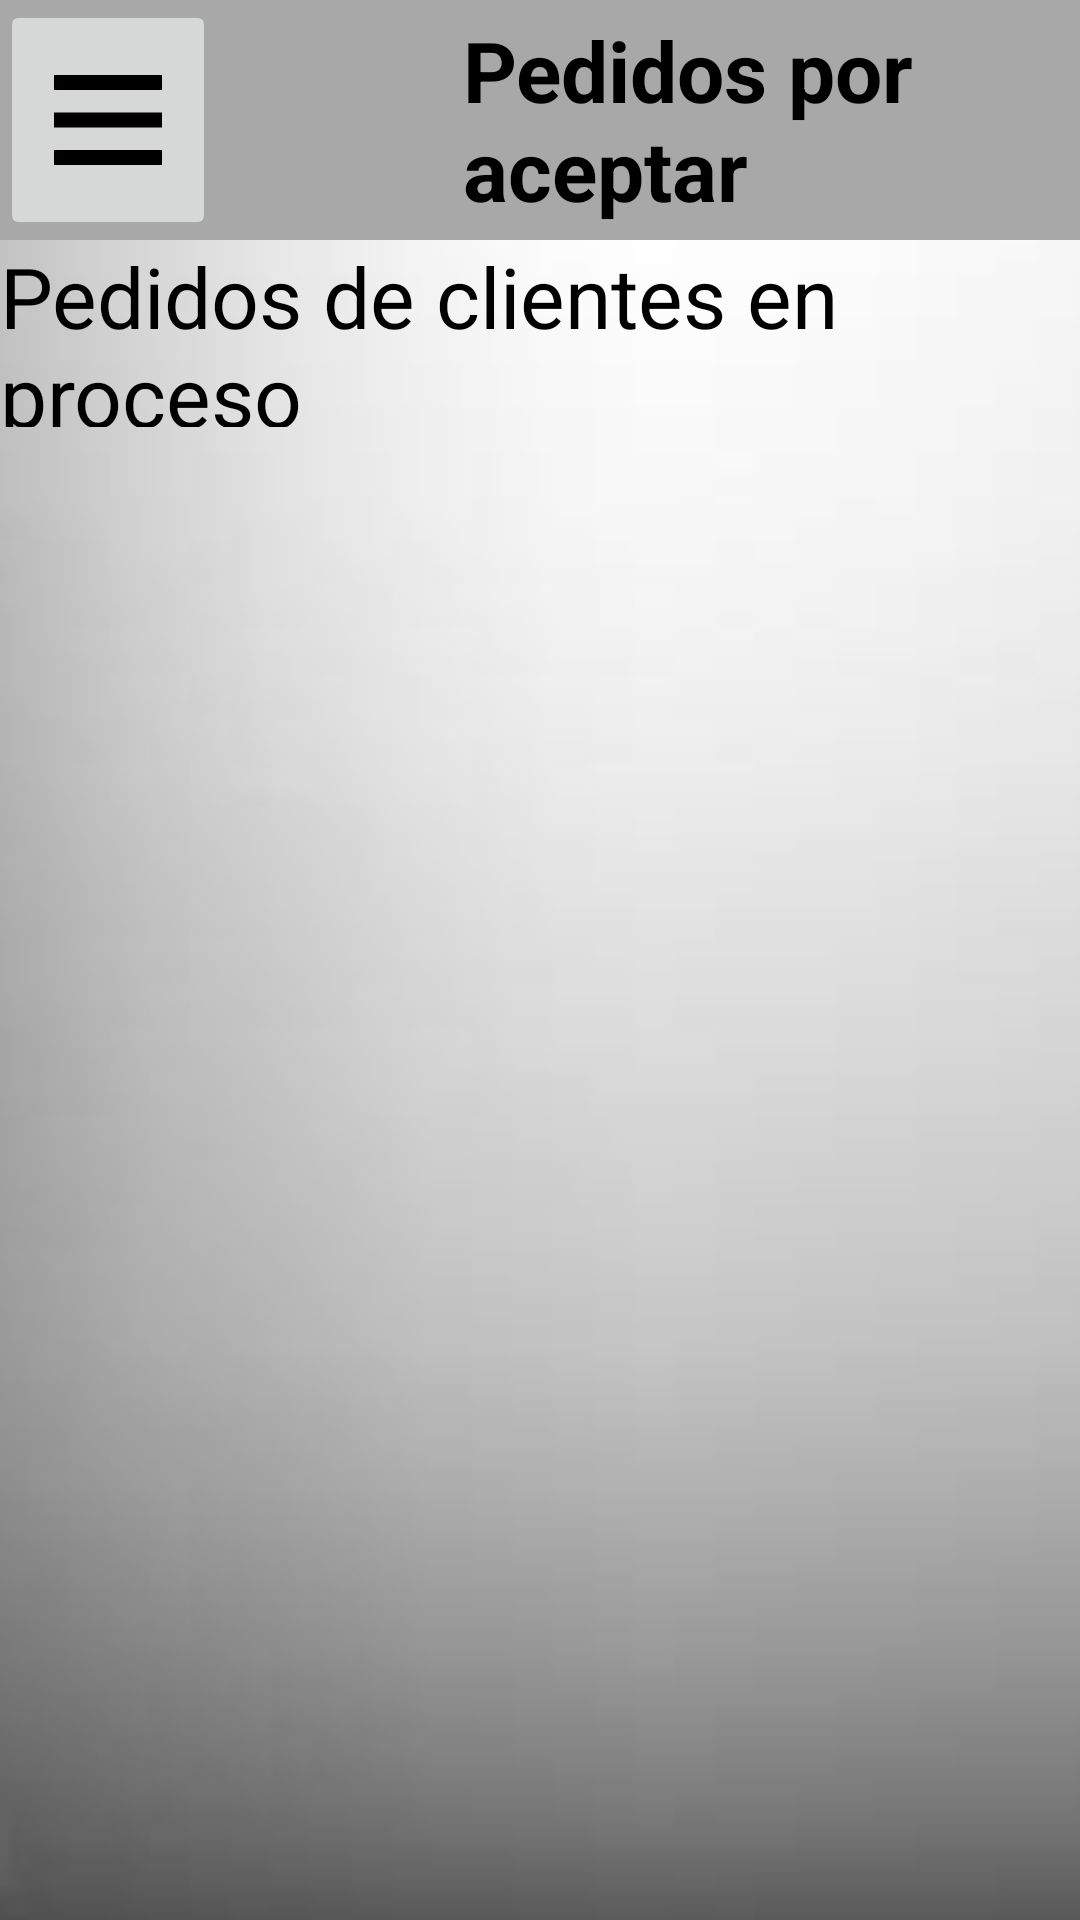

Screen size 1080px×1920px. Icon name, then its center in pixels as (x=x, y=y):
menú de opciones: (x=108, y=120)
